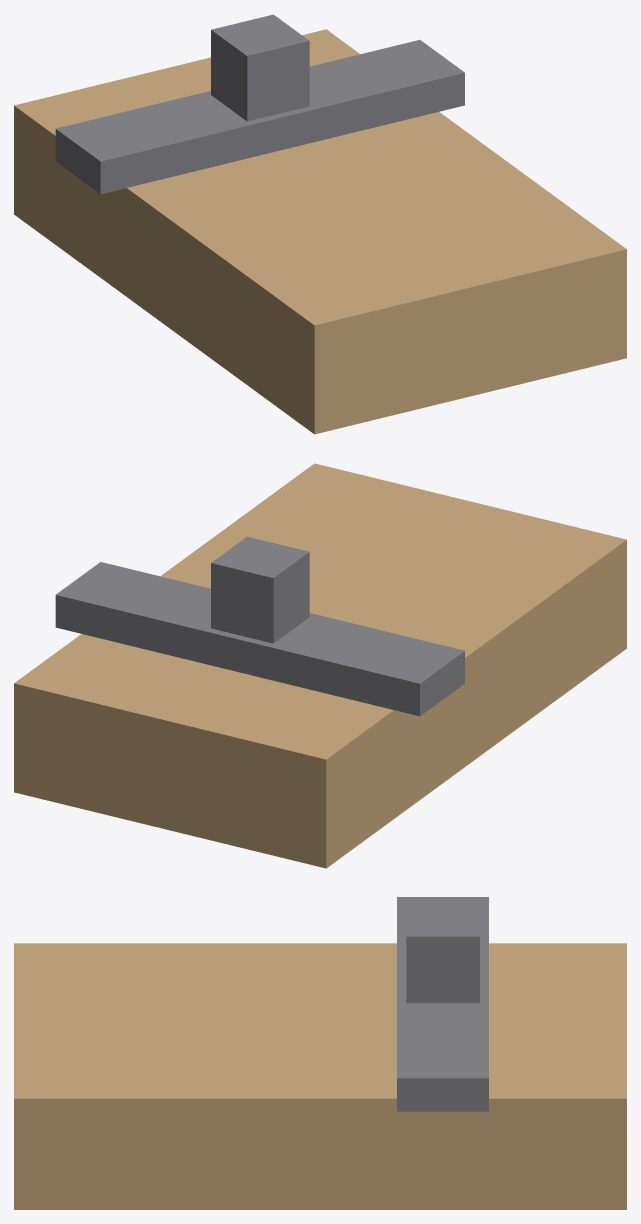
File: prop-iron-grinding-jig-pi1.fbx
3 views of the same model, one above another, from view 1: azimuth 30°, elevation 25°; view 2: azimuth 150°, elevation 25°; view 3: azimuth 270°, elevation 25° (orthographic).
Visible parts, largest first — view 1: prop-iron-grinding-jig-pi1; view 2: prop-iron-grinding-jig-pi1; view 3: prop-iron-grinding-jig-pi1.
Boxes of the visible parts, x1=… form: prop-iron-grinding-jig-pi1: x1=14, y1=14, x2=626, y2=434; prop-iron-grinding-jig-pi1: x1=14, y1=463, x2=626, y2=868; prop-iron-grinding-jig-pi1: x1=14, y1=897, x2=626, y2=1209.
Bounding box in the file's own units: 7 × 3.8 × 10.
